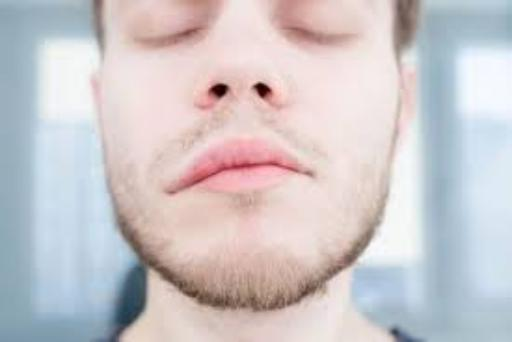left_eye: (278, 14, 368, 54)
left_lip_corner: (282, 151, 319, 183)
right_eye: (127, 17, 212, 54)
right_lip_corner: (160, 175, 219, 199)
